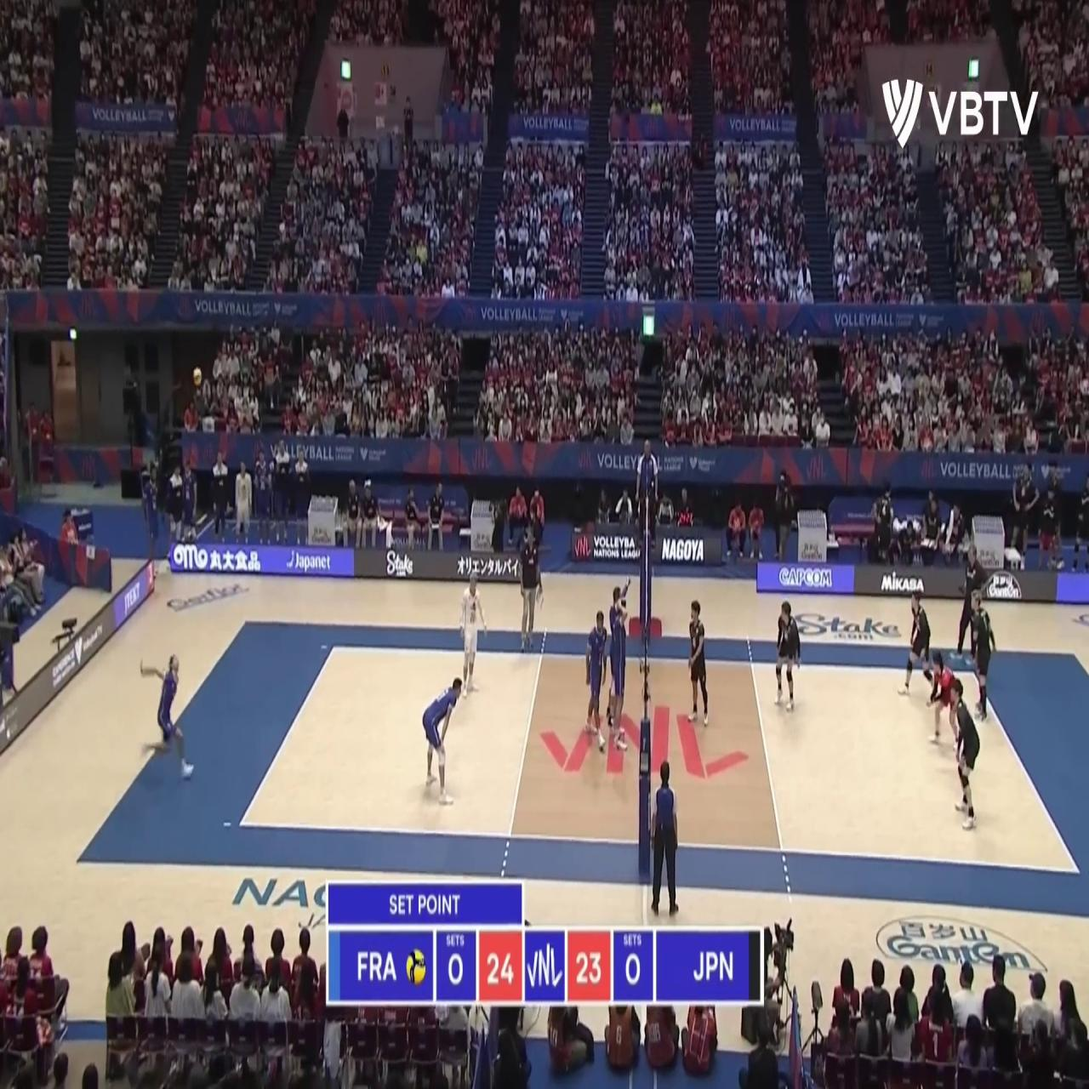ball: (192, 367, 203, 386)
